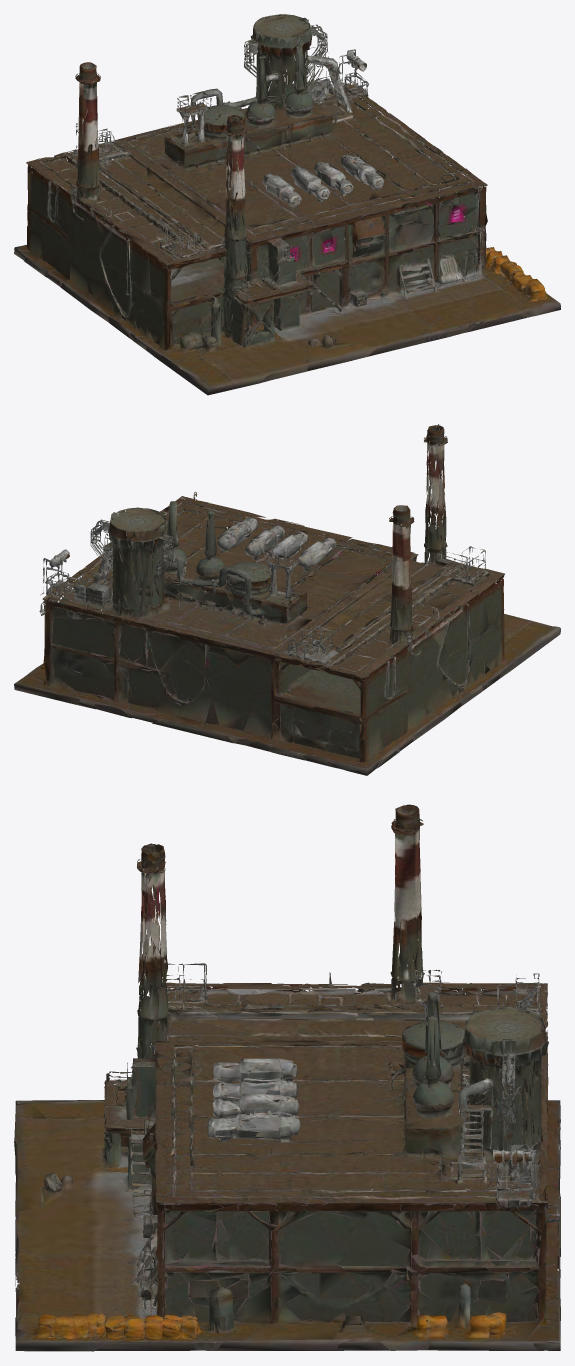
Rendered from foundry.glb.
3 renders of one model, top to bottom at view 1: azimuth 30°, elevation 25°; view 2: azimuth 150°, elevation 25°; view 3: azimuth 270°, elevation 25°, orthographic. The views are drawn at different scales.
Parts seen in each view (by area): view 1: Mesh_0; view 2: Mesh_0; view 3: Mesh_0.
Part boxes in pixels (x1=…): Mesh_0: x1=14, y1=14, x2=560, y2=395; Mesh_0: x1=14, y1=424, x2=560, y2=775; Mesh_0: x1=14, y1=804, x2=560, y2=1351.
Bounding box in the file's own units: 1.91 × 1.16 × 1.82.
Materials: 1 (1 with a texture image).
